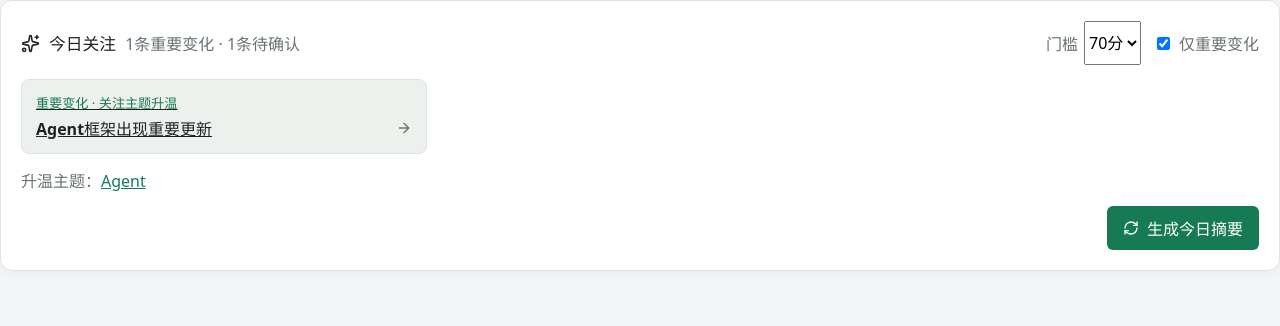
it: 展示可追溯的今日关注并生成摘要
This screenshot has width=1280, height=326.
Click the button "生成今日摘要": (1183, 228) x1=1107 y1=206 x2=1259 y2=250
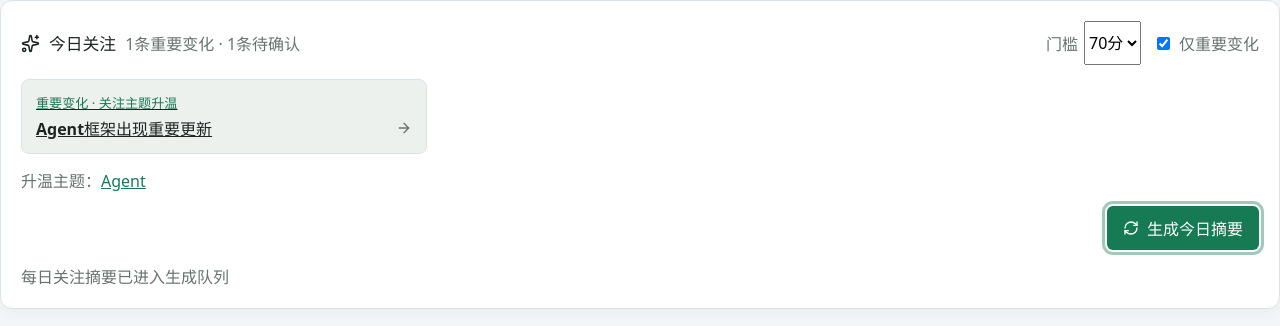
Result: the text "每日关注摘要已进入生成队列" is shown at x1=21 y1=266 x2=229 y2=288
